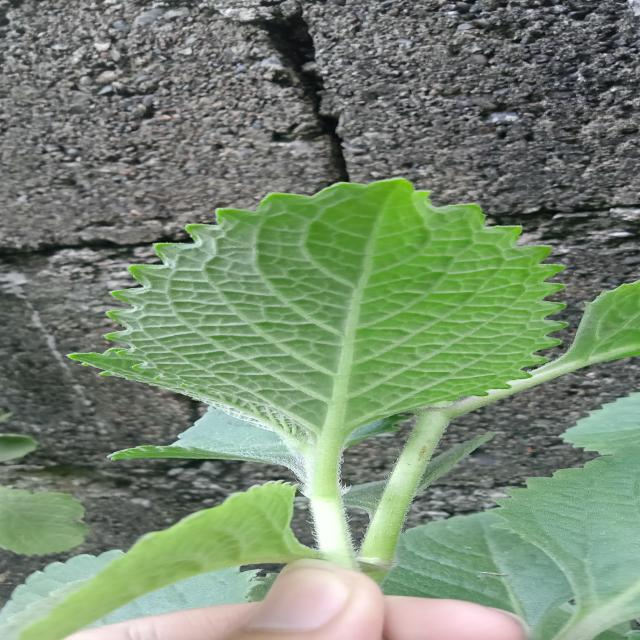Oregano: (76, 164, 592, 464)
